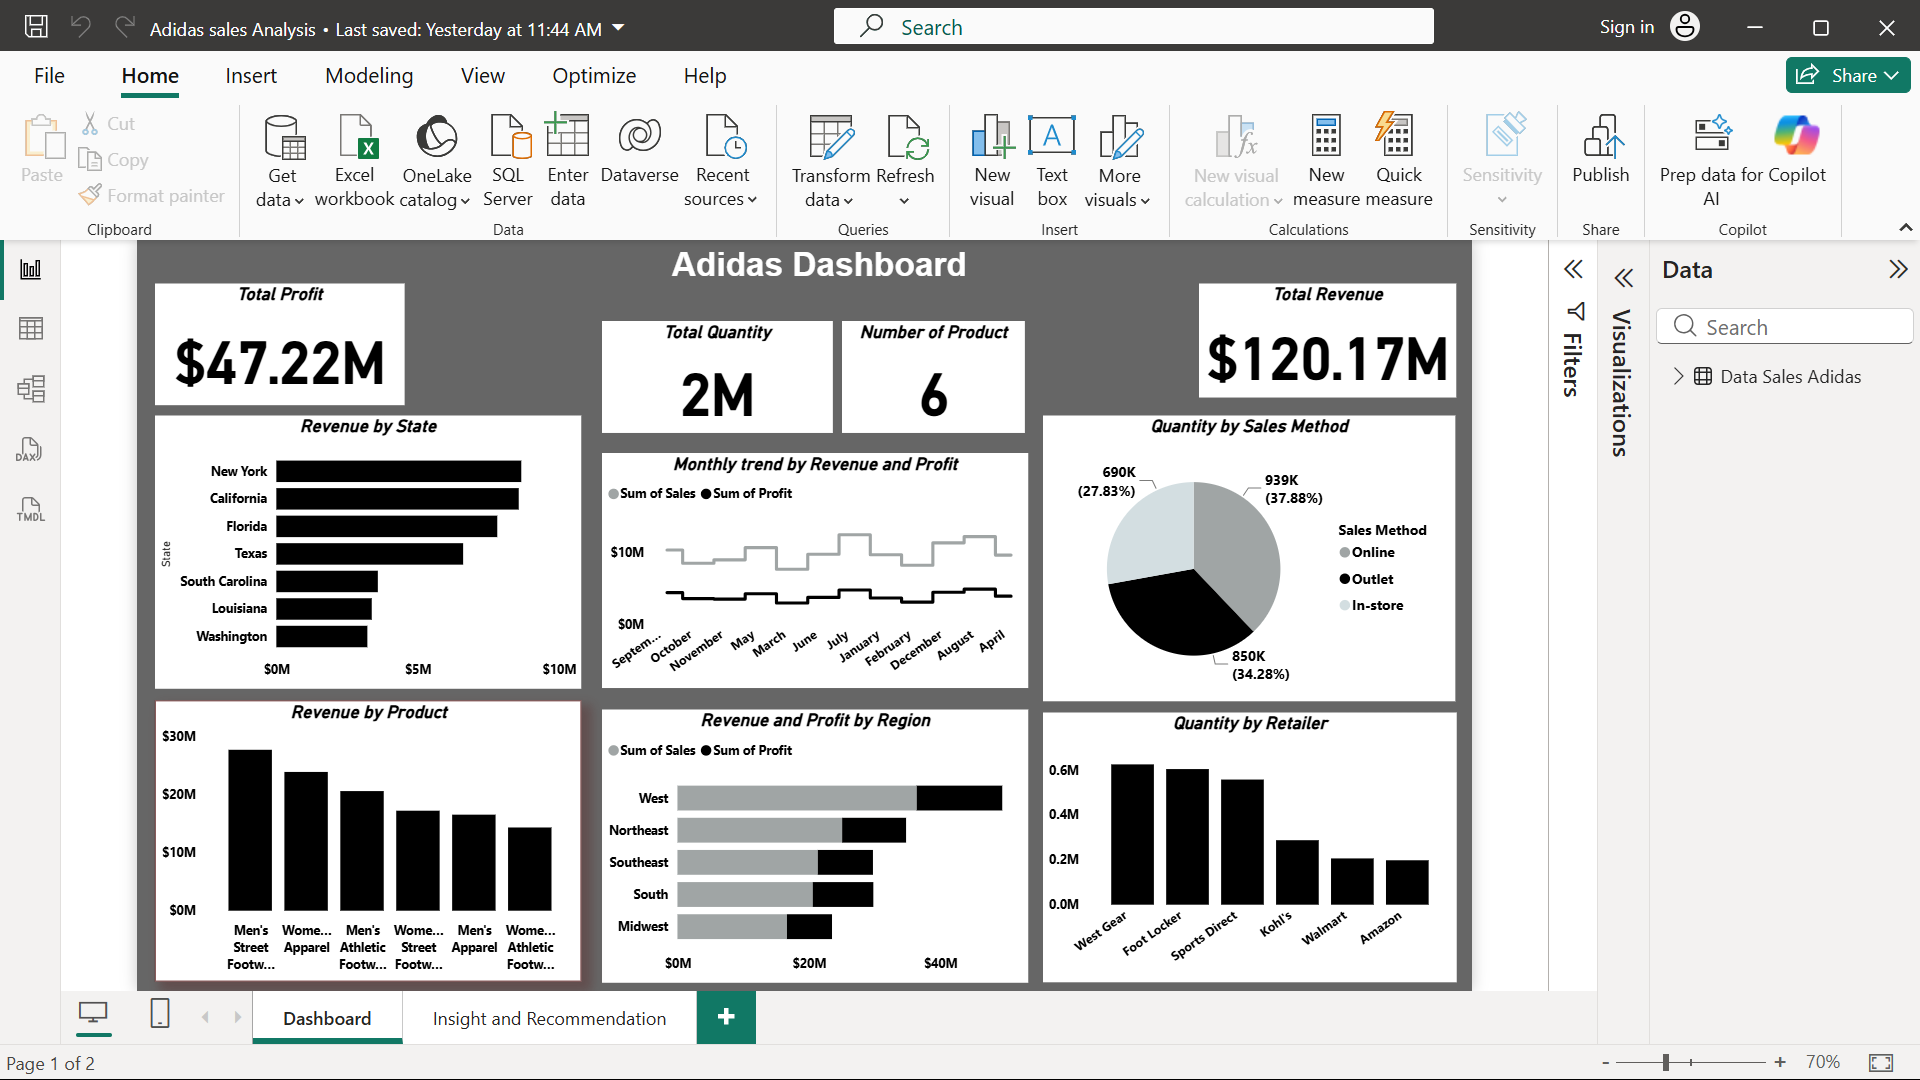

Layout of this report page (visuals, bound fields, positions):
{"tool":"powerbi","page":{"name":"Dashboard","canvas":[1280,720],"ordinal":0},"visuals":[{"type":"textbox","box":[455.8,0,396.7,63.6],"z":0},{"type":"card","title":"Total Revenue","fields":{"Values":["Sum(Data Sales Adidas.Sales)"]},"box":[1017.5,42.4,246.8,109],"z":1000},{"type":"card","title":"Total Quantity","fields":{"Values":["Sum(Data Sales Adidas.Units Sold)"]},"box":[445.2,77.2,221.1,107.5],"z":2000},{"type":"card","title":"Total Profit","fields":{"Values":["Sum(Data Sales Adidas.Profit)"]},"box":[16.7,42.4,239.2,116.6],"z":3000},{"type":"card","title":"Number of Product","fields":{"Values":["Count(Data Sales Adidas.Product)"]},"box":[675.3,77.2,175.6,107.5],"z":4000},{"type":"barChart","title":"Revenue and Profit by Region","fields":{"Y":["Sum(Data Sales Adidas.Sales)","Sum(Data Sales Adidas.Profit)"],"Category":["Data Sales Adidas.Region"]},"box":[445.2,449.7,408.8,262],"z":5000},{"type":"clusteredColumnChart","title":"Revenue by Product","fields":{"Y":["Sum(Data Sales Adidas.Sales)"],"Category":["Data Sales Adidas.Product"]},"box":[16.7,442.1,408.8,269.5],"z":6000},{"type":"barChart","title":"Revenue by State","fields":{"Category":["Data Sales Adidas.State"],"Y":["Sum(Data Sales Adidas.Sales)"]},"box":[16.7,168.1,408.8,262],"z":7000},{"type":"lineChart","title":"Monthly trend by Revenue and Profit","fields":{"Y":["Sum(Data Sales Adidas.Sales)","Sum(Data Sales Adidas.Profit)"],"Category":["Data Sales Adidas.Month of Name"]},"box":[445.2,204.4,408.8,225.6],"z":8000},{"type":"pieChart","title":"Quantity by Sales Method","fields":{"Y":["Sum(Data Sales Adidas.Units Sold)"],"Category":["Data Sales Adidas.Sales Method"]},"box":[869.2,168.1,395.2,274.1],"z":9000},{"type":"lineStackedColumnComboChart","title":"Quantity by Retailer","fields":{"Category":["Data Sales Adidas.Retailer"],"Y":["Sum(Data Sales Adidas.Units Sold)"]},"box":[869.2,452.7,396.7,258.9],"z":10000}]}

Visuals, with their boxes on the page's 1280x720 design canvas (x1, y1, x2, y2). These are canvas units, not pixel positions in the 1920x1080 screenshot, which may show the page scaled, cropped or inside an application window:
textbox: (456,0,852,64)
"Total Revenue" card: (1018,42,1264,151)
"Total Quantity" card: (445,77,666,185)
"Total Profit" card: (17,42,256,159)
"Number of Product" card: (675,77,851,185)
"Revenue and Profit by Region" barChart: (445,450,854,712)
"Revenue by Product" clusteredColumnChart: (17,442,426,712)
"Revenue by State" barChart: (17,168,426,430)
"Monthly trend by Revenue and Profit" lineChart: (445,204,854,430)
"Quantity by Sales Method" pieChart: (869,168,1264,442)
"Quantity by Retailer" lineStackedColumnComboChart: (869,453,1266,712)
